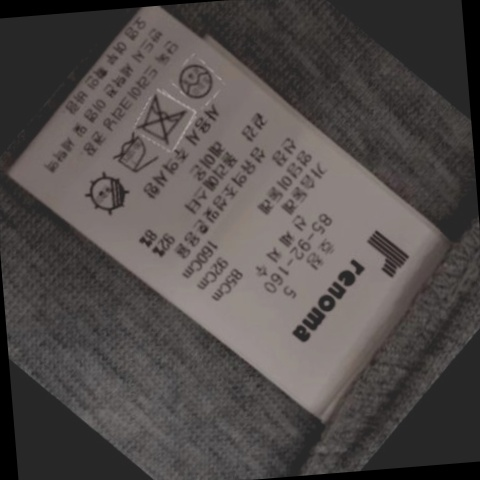DN_wash: (137, 96, 193, 144)
dry_clean_petrol_only: (176, 58, 219, 101)
iron_low: (109, 134, 159, 178)
line_dry_in_shade: (84, 172, 138, 217)
